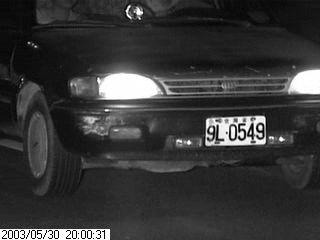plate: (203, 114, 268, 148)
